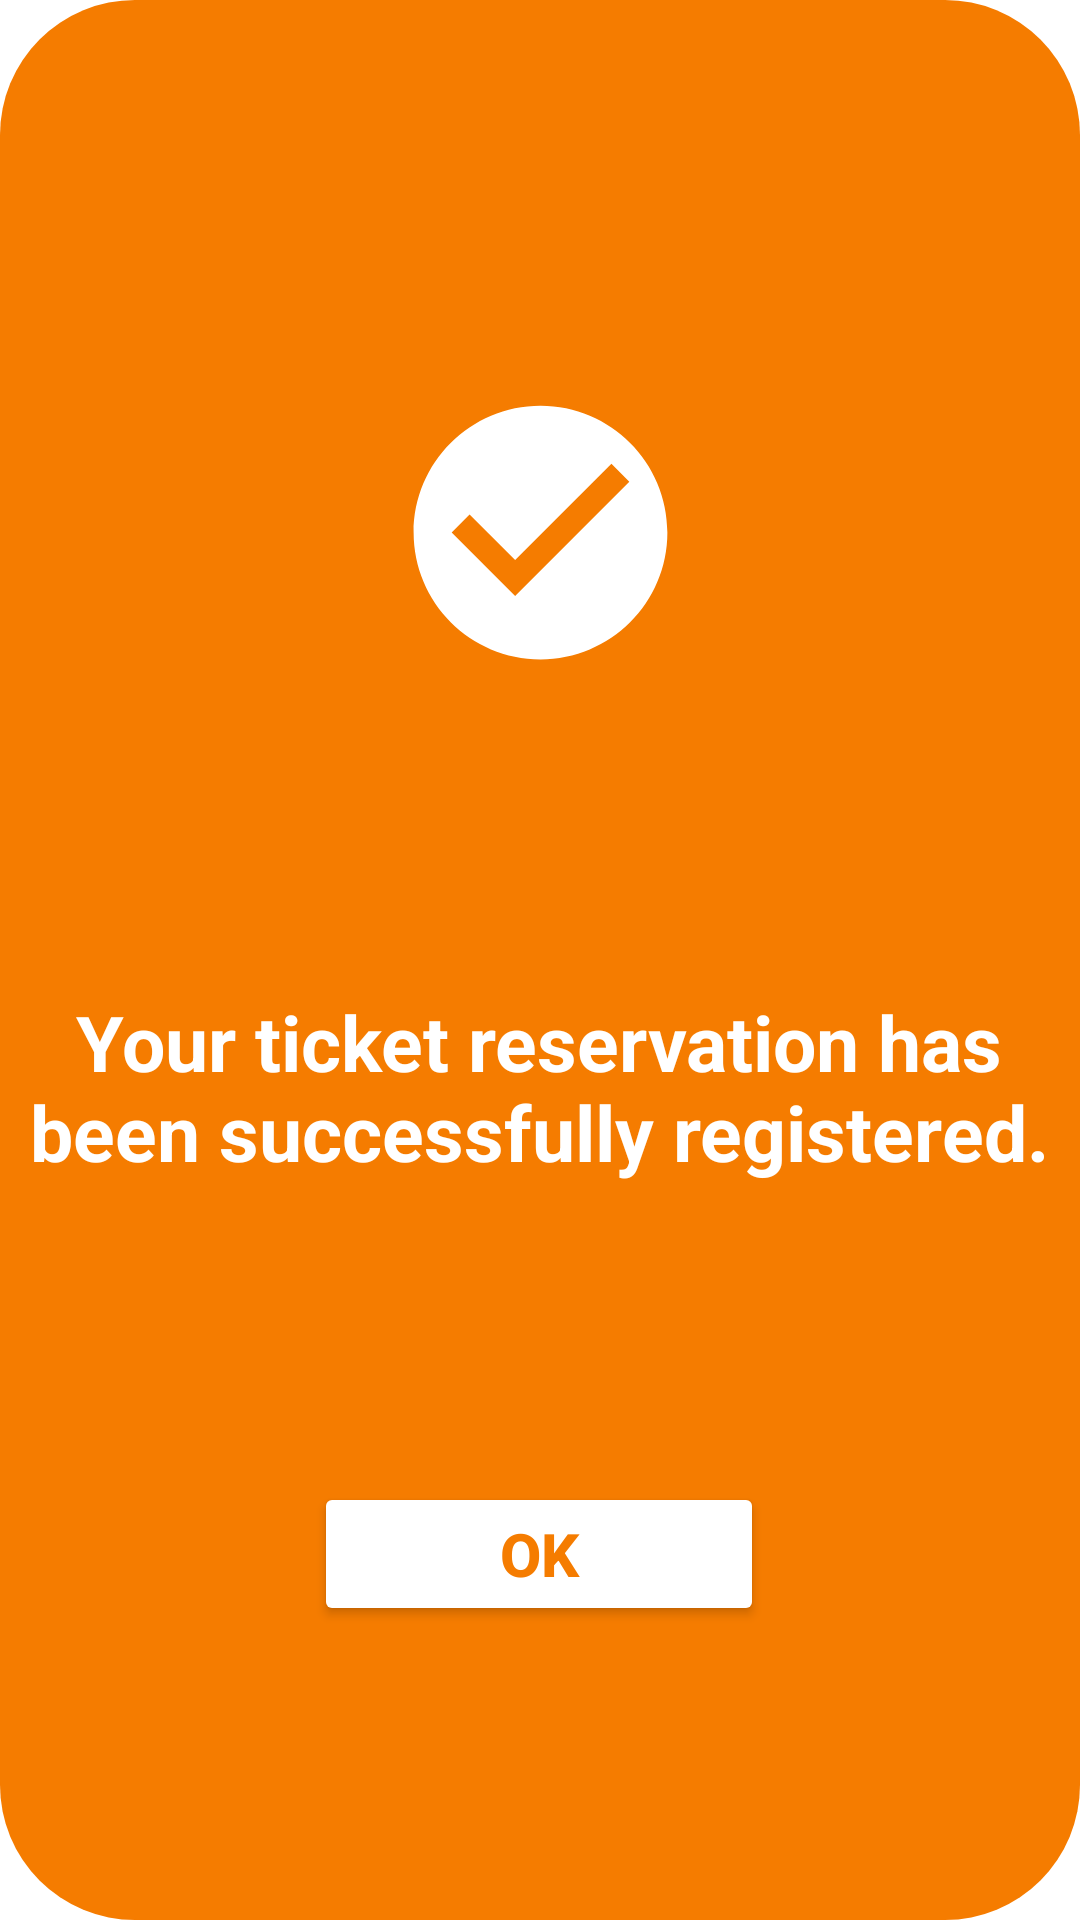

Named icons in this screenshot (1080px x 1920px) and their centers, (x=x, y=y):
check: (x=540, y=532)
